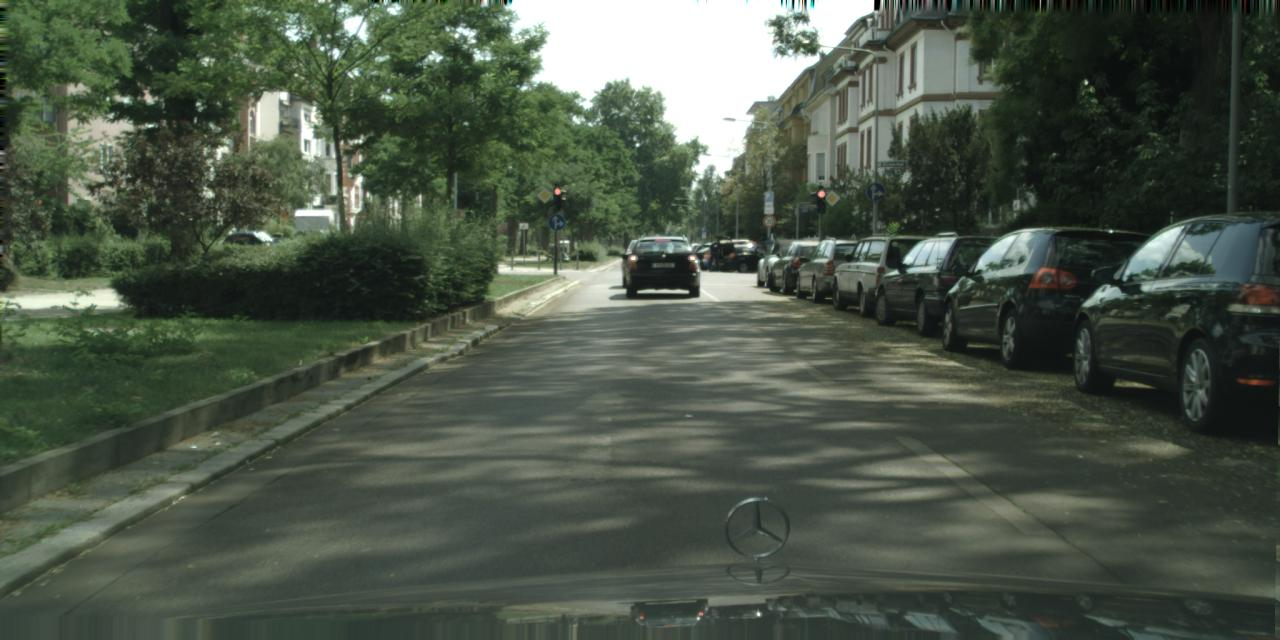ped: (709, 240, 720, 271)
